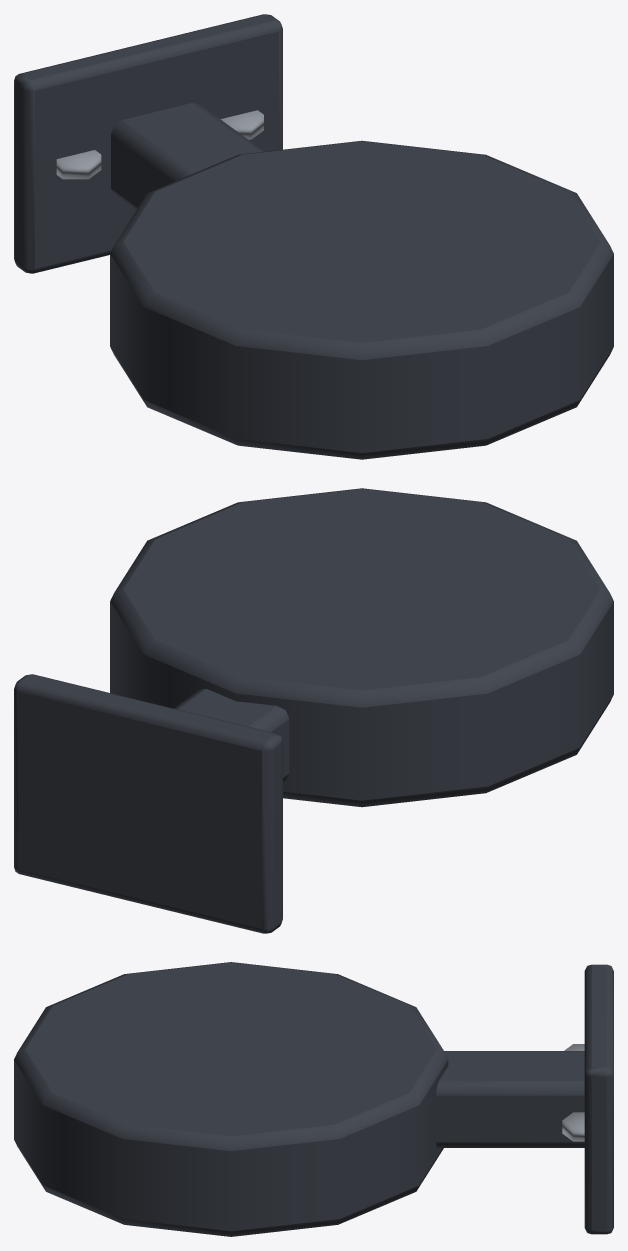
File: pipe_bracket.fbx
3 renders of one model, top to bottom at view 1: azimuth 30°, elevation 25°; view 2: azimuth 150°, elevation 25°; view 3: azimuth 270°, elevation 25°, orthographic. The views are drawn at different scales.
Parts seen in each view (by area): view 1: pipe_bracket; view 2: pipe_bracket; view 3: pipe_bracket.
Part boxes in pixels (x1=…): pipe_bracket: x1=14, y1=14, x2=613, y2=459; pipe_bracket: x1=14, y1=488, x2=613, y2=933; pipe_bracket: x1=14, y1=962, x2=613, y2=1236.
Bounding box in the file's own units: 0.118 × 0.163 × 0.05.
